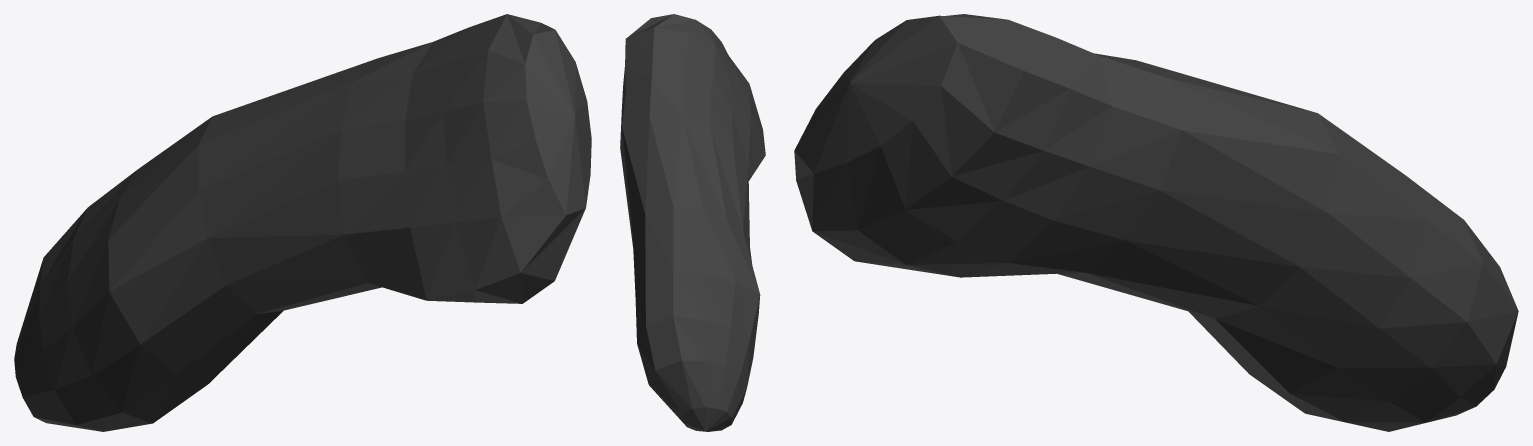
File: Adrenal_L.glb
3 views of the same model, side by side, from view 1: azimuth 30°, elevation 25°; view 2: azimuth 150°, elevation 25°; view 3: azimuth 270°, elevation 25° (orthographic). The views are drawn at different scales.
Parts seen in each view (by area): view 1: Adrenal_L; view 2: Adrenal_L; view 3: Adrenal_L.
Part boxes in pixels (left/top/right/bottom): Adrenal_L: left=14, top=14, right=591, bottom=431; Adrenal_L: left=620, top=14, right=765, bottom=431; Adrenal_L: left=794, top=14, right=1518, bottom=431.
Bounding box in the file's own units: 13.83 × 17.35 × 20.61.
1 material, 1 textured.
